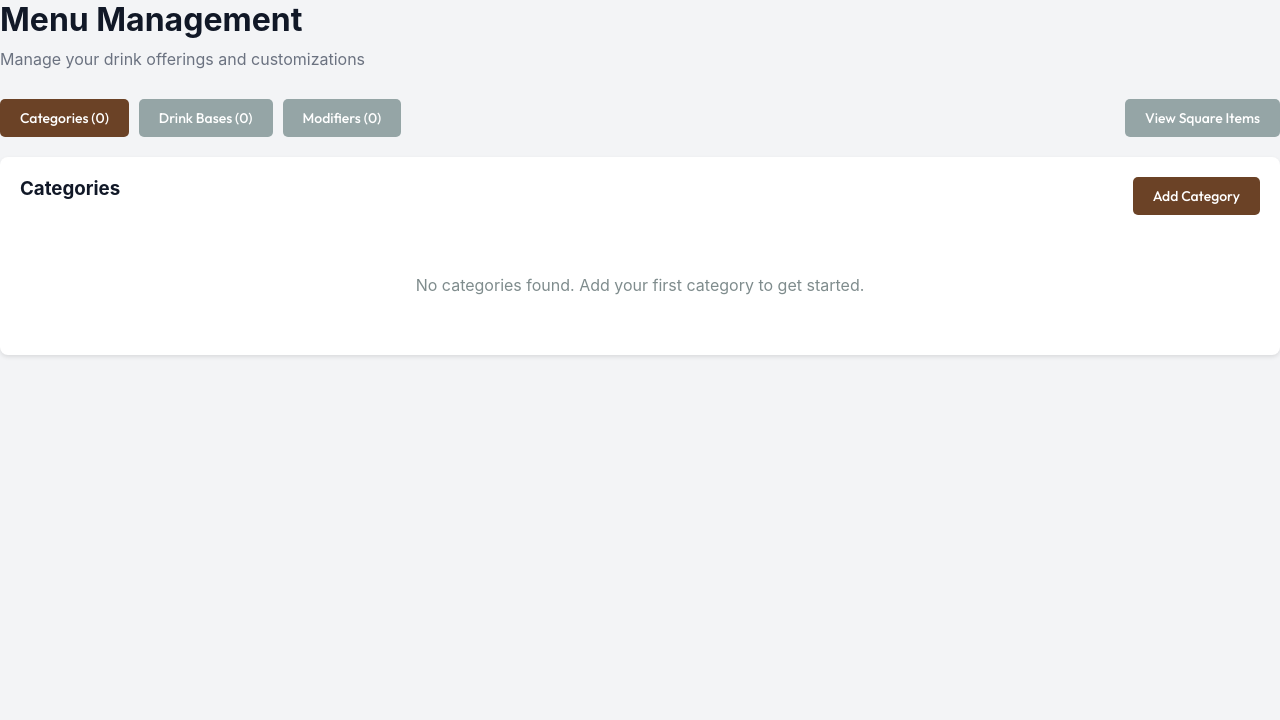
it: MenuManagement › opens Add Category modal when "Add Category" is clicked
This screenshot has width=1280, height=720.
Click the button "Add Category": (1196, 196) [1133, 177, 1260, 215]
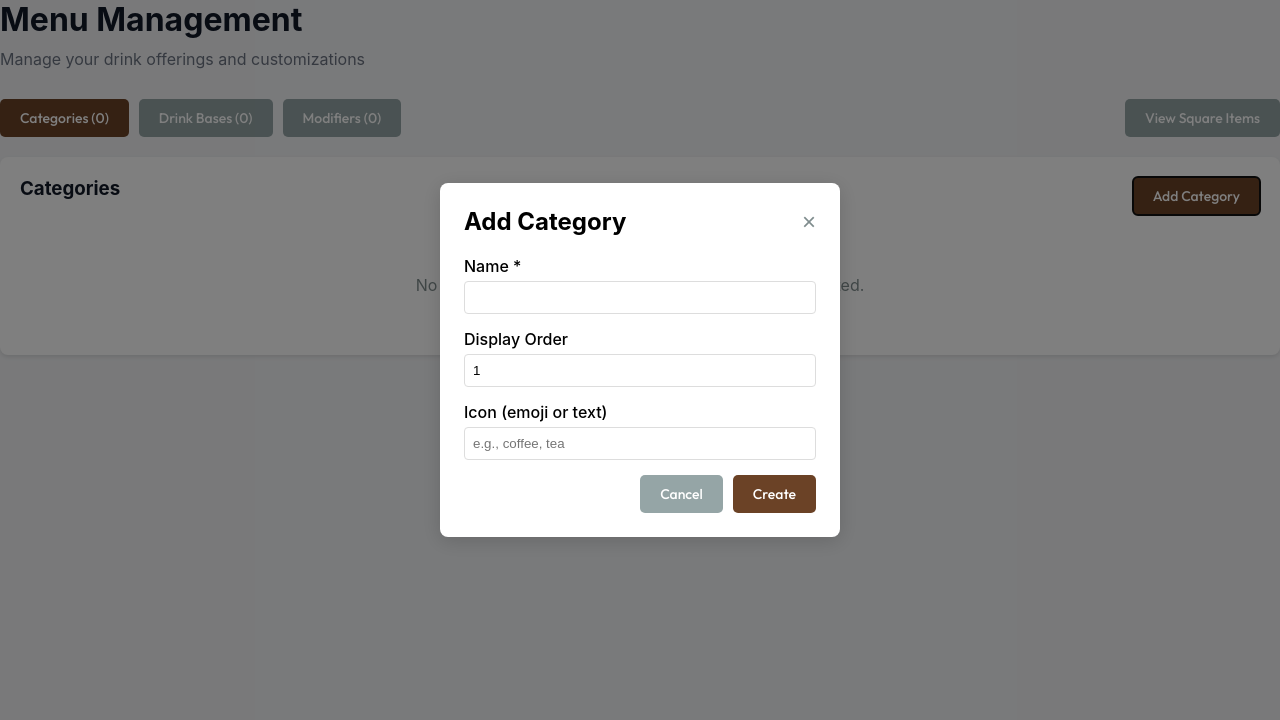
Now the heading "Add Category" is shown, box [464, 207, 626, 236]
Now the text "Name *" is shown, box [464, 256, 521, 276]
